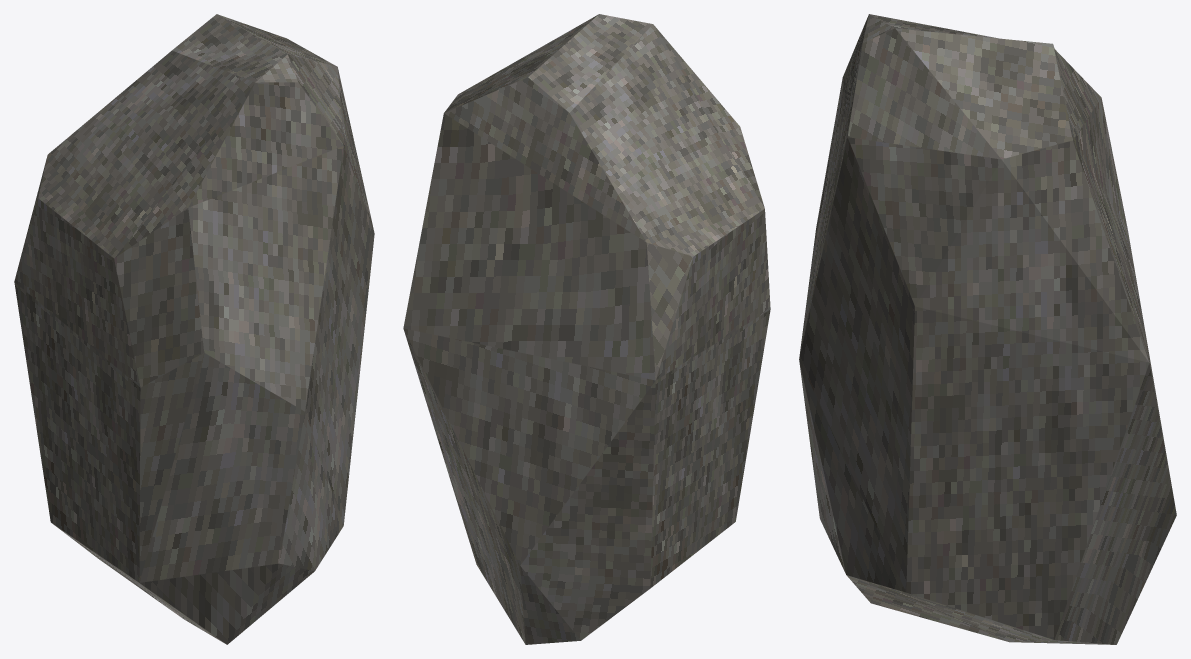
The model's file is rock_02.glb.
3 views of the same model, side by side, from view 1: azimuth 30°, elevation 25°; view 2: azimuth 150°, elevation 25°; view 3: azimuth 270°, elevation 25° (orthographic). The views are drawn at different scales.
Visible parts, largest first — view 1: Rock1; view 2: Rock1; view 3: Rock1.
Boxes of the visible parts, x1=… form: Rock1: x1=14, y1=14, x2=374, y2=644; Rock1: x1=403, y1=14, x2=770, y2=644; Rock1: x1=799, y1=14, x2=1176, y2=644.
Bounding box in the file's own units: 0.6507 × 1.34 × 0.7183.
1 material, 1 textured.
